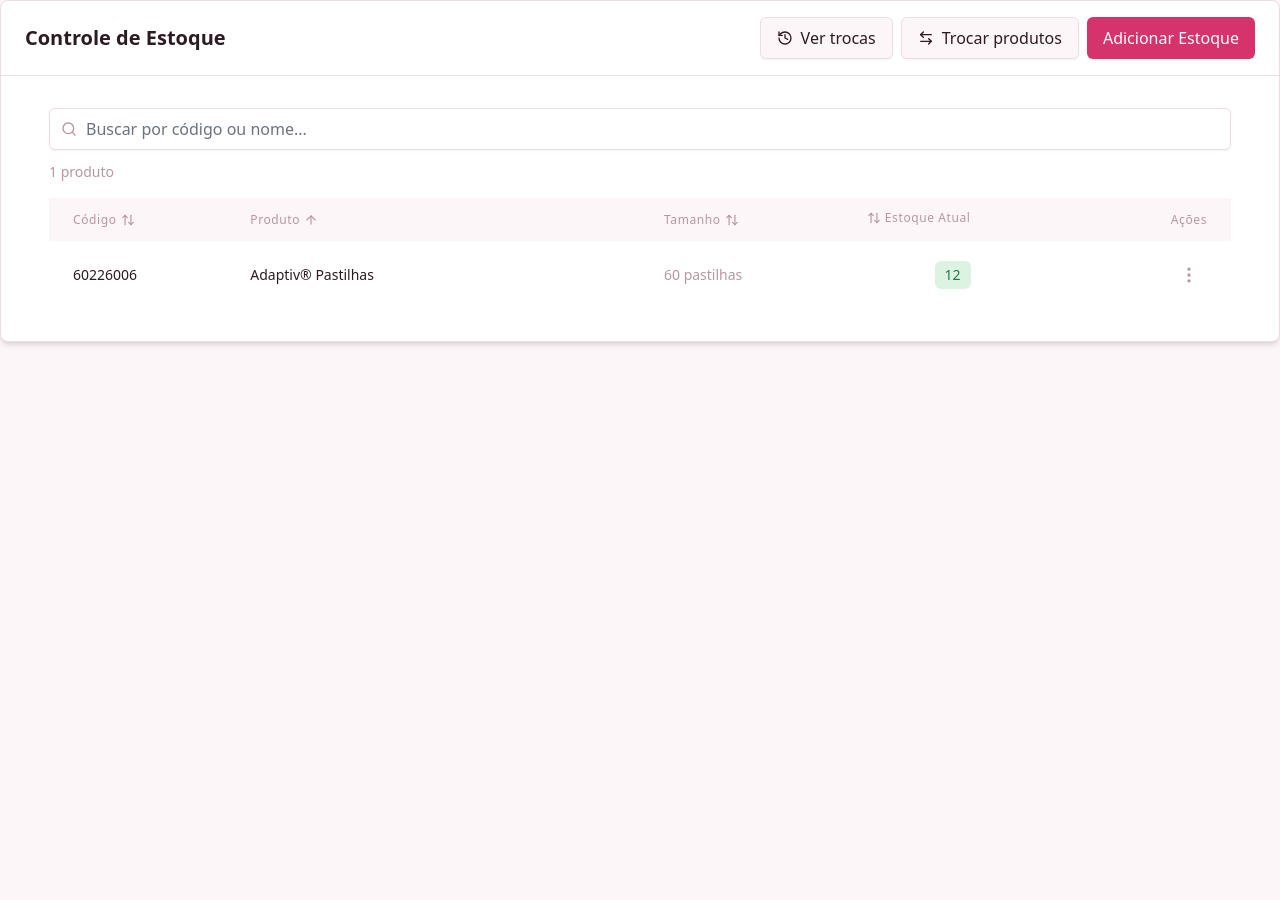
Test: StockPage › ActionMenu (kebab) › should close the menu when the backdrop is clicked
Click the button with test id "stock-actions-11111111-1111-1111-1111-111111111111-trigger".
click(1189, 275)  # box [1171,257,1207,293]
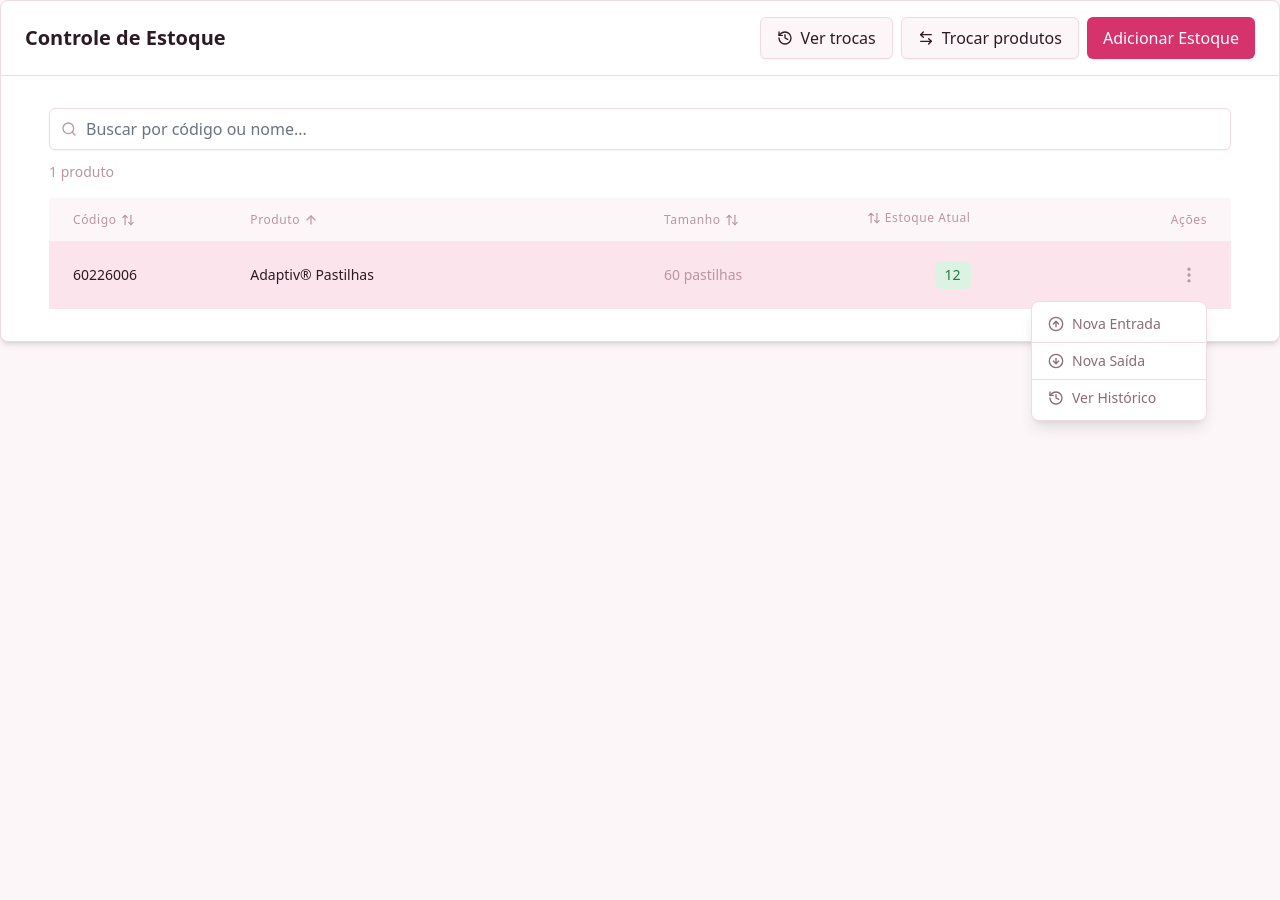
Expected: the menu with test id "stock-actions-11111111-1111-1111-1111-111111111111-menu" is shown, [1031,301,1207,421]
Click the element with test id "stock-actions-11111111-1111-1111-1111-111111111111-backdrop".
click(640, 450)  # box [0,0,1279,899]
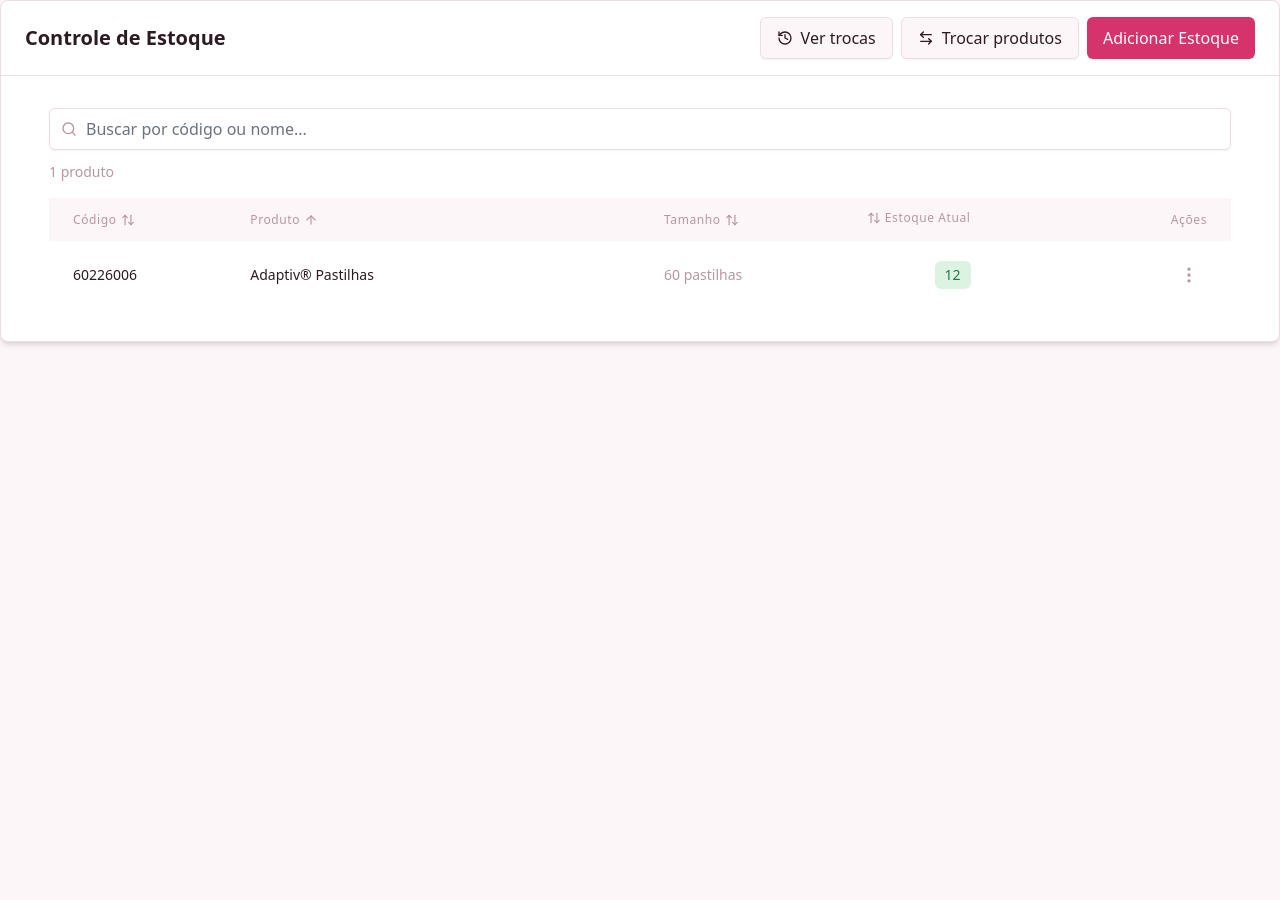
Expected: the menu with test id "stock-actions-11111111-1111-1111-1111-111111111111-menu" is gone
